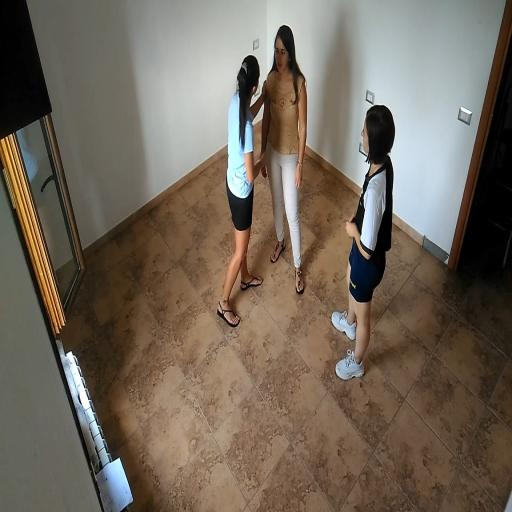nao-violencia: (209, 15, 315, 345)
